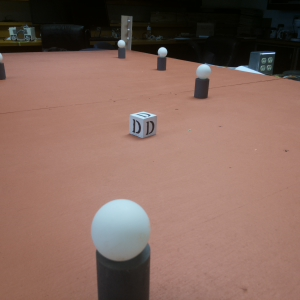blockD: (130, 111, 157, 141)
corner: (122, 15, 132, 45)
obstacle: (92, 197, 153, 300), (194, 64, 211, 101), (157, 46, 167, 72), (117, 39, 125, 58), (1, 52, 6, 79)
